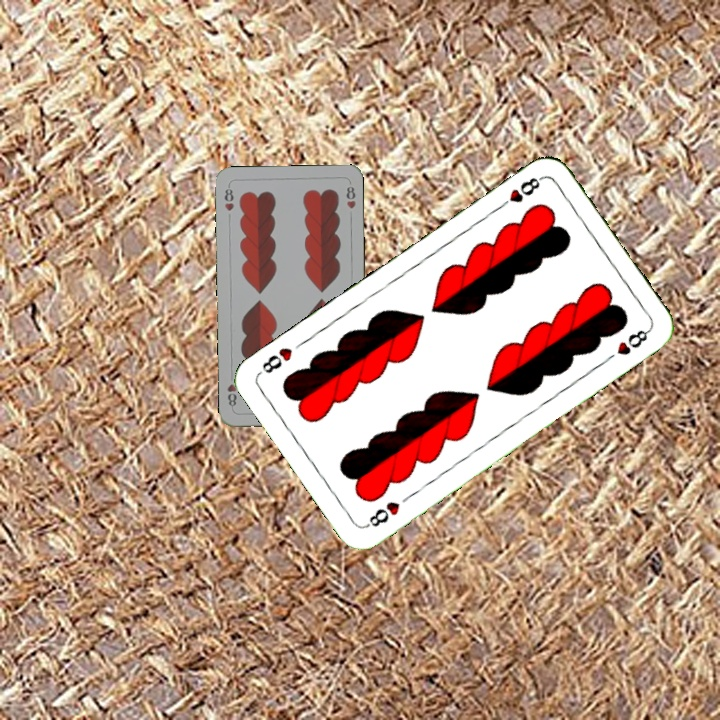H8: (494, 172, 546, 212), (362, 497, 403, 530), (221, 182, 237, 214)
